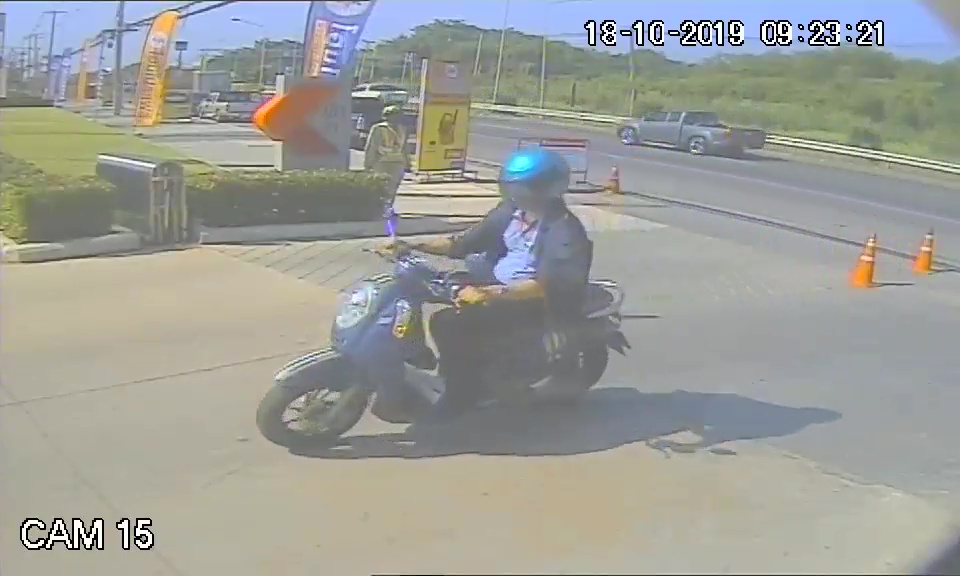motorcycle: (257, 252, 639, 449)
